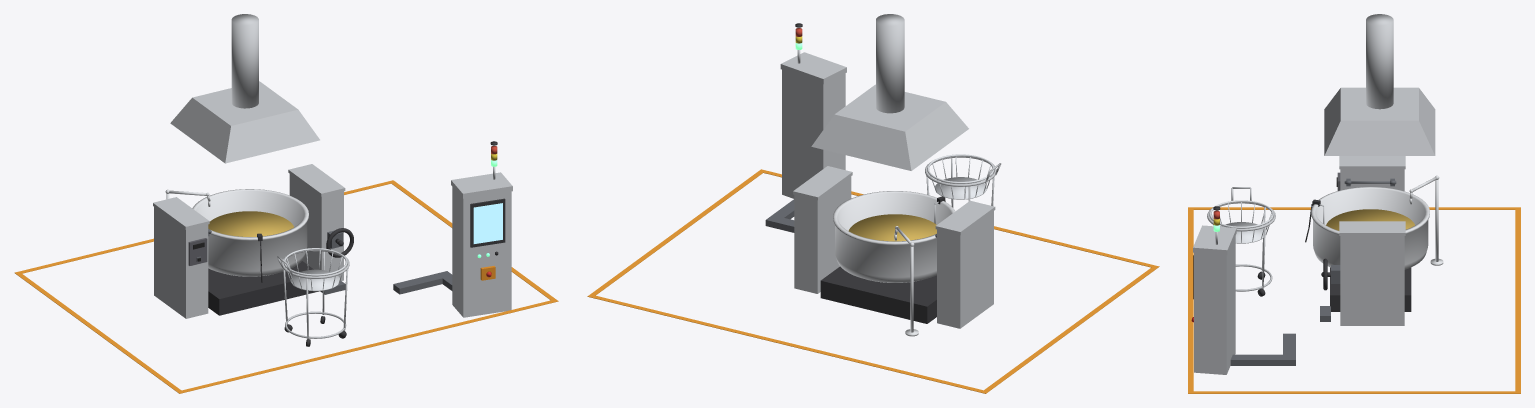
Rendered from kitchen_static.glb.
3 views of the same model, side by side, from view 1: azimuth 30°, elevation 25°; view 2: azimuth 150°, elevation 25°; view 3: azimuth 270°, elevation 25° (orthographic). The views are drawn at different scales.
Visible parts, largest first — view 1: Hood, Bowl, Kiosk, PillarL, Plinth, PillarR, HoodDuct, Oil, ZoneTape, KioskTop, KioskScreen, PillarRCap (+7 smaller); view 2: Hood, Bowl, Kiosk, PillarL, PillarR, Plinth, HoodDuct, Oil, ZoneTape.001, KioskTop, PillarRCap, PillarLCap (+4 smaller); view 3: Hood, PillarR, Kiosk, Bowl, HoodDuct, PillarL, ZoneTape.001, ZoneTape, PillarRCap, KioskTop, Oil, ZoneTape.003 (+9 smaller).
Part boxes in pixels (left/top/right/bottom): Hood: left=170, top=81, right=319, bottom=163; Bowl: left=192, top=189, right=308, bottom=276; Kiosk: left=452, top=187, right=511, bottom=317; PillarL: left=154, top=207, right=208, bottom=318; Plinth: left=208, top=261, right=319, bottom=315; PillarR: left=289, top=174, right=343, bottom=280; HoodDuct: left=231, top=14, right=258, bottom=108; Oil: left=208, top=211, right=293, bottom=236; ZoneTape: left=177, top=299, right=558, bottom=393; KioskTop: left=451, top=172, right=512, bottom=198; KioskScreen: left=473, top=203, right=502, bottom=243; PillarRCap: left=288, top=164, right=345, bottom=196; Hood: left=811, top=84, right=968, bottom=170; Bowl: left=833, top=191, right=955, bottom=282; Kiosk: left=782, top=69, right=845, bottom=198; PillarL: left=937, top=211, right=993, bottom=328; PillarR: left=794, top=176, right=851, bottom=293; Plinth: left=820, top=266, right=936, bottom=323; HoodDuct: left=876, top=14, right=904, bottom=113; Oil: left=848, top=214, right=936, bottom=241; ZoneTape.001: left=587, top=295, right=988, bottom=393; KioskTop: left=780, top=52, right=846, bottom=84; PillarRCap: left=793, top=166, right=852, bottom=200; PillarLCap: left=935, top=200, right=995, bottom=235; Hood: left=1324, top=87, right=1435, bottom=155; PillarR: left=1340, top=236, right=1404, bottom=325; Kiosk: left=1194, top=236, right=1235, bottom=374; Bowl: left=1311, top=187, right=1429, bottom=269; HoodDuct: left=1366, top=14, right=1393, bottom=109; PillarL: left=1340, top=169, right=1404, bottom=191; ZoneTape.001: left=1515, top=207, right=1520, bottom=393; ZoneTape: left=1188, top=207, right=1193, bottom=393; PillarRCap: left=1339, top=221, right=1405, bottom=235; KioskTop: left=1193, top=225, right=1236, bottom=255; Oil: left=1326, top=209, right=1414, bottom=230; ZoneTape.003: left=1193, top=391, right=1515, bottom=393.
Size of the model in its own units: 4.78 by 3.2 by 3.61.
